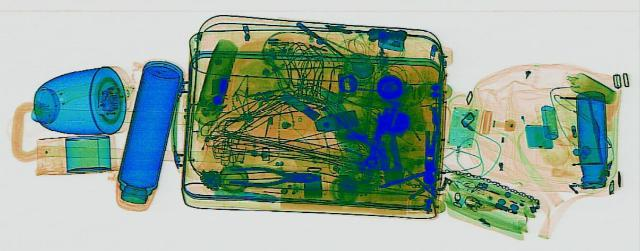Wrench: (226, 165, 316, 186)
